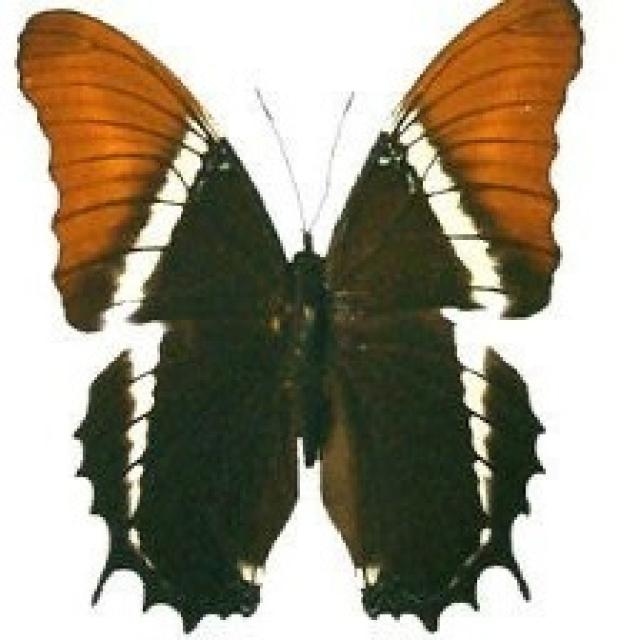butterfly: (11, 0, 585, 631)
